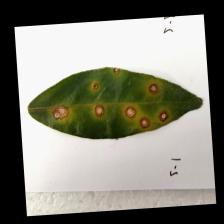canker: (46, 68, 170, 140)
